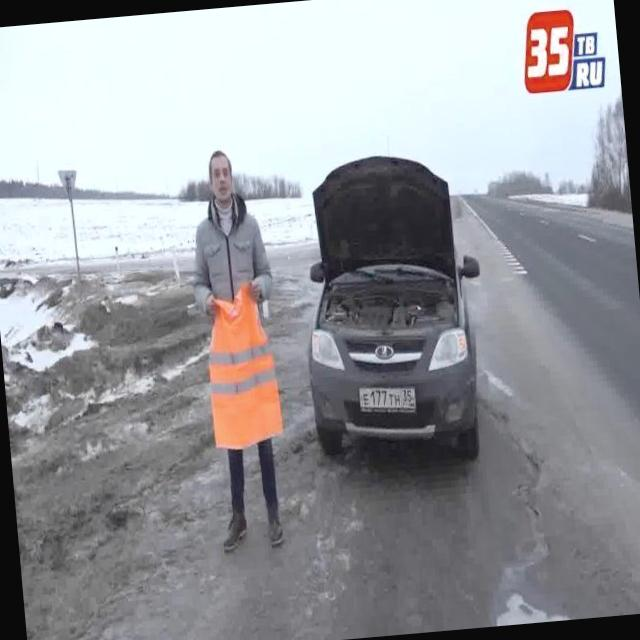vest: (200, 276, 286, 457)
